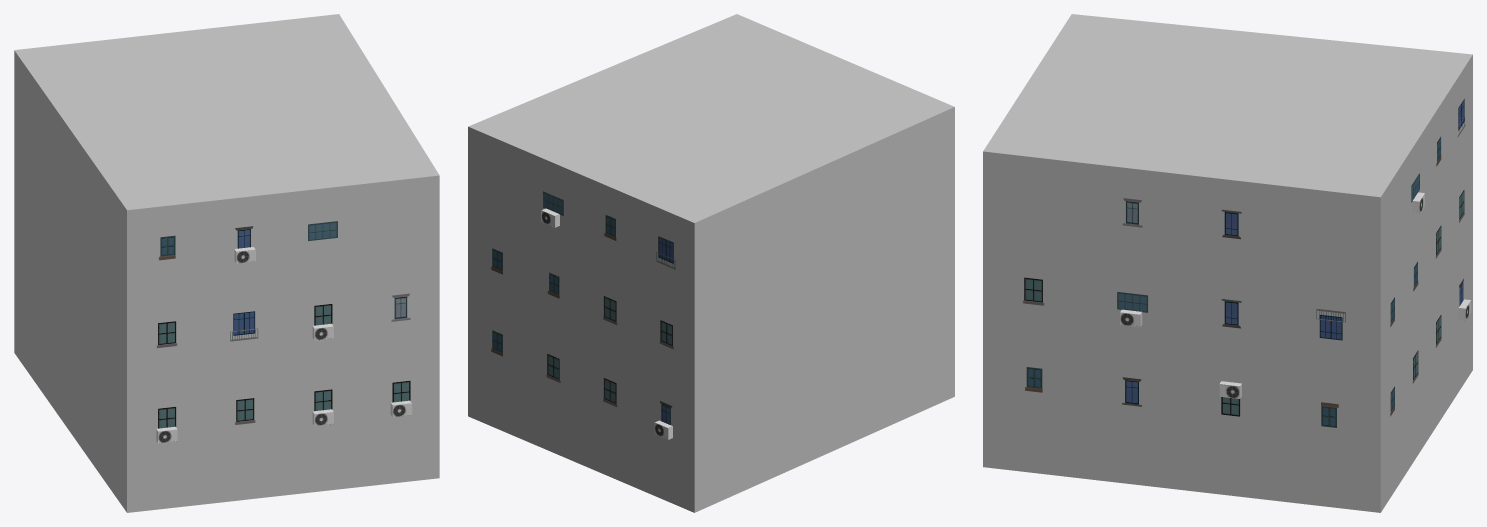
File: 111StationFix11.fbx
3 renders of one model, left to right at view 1: azimuth 30°, elevation 25°; view 2: azimuth 150°, elevation 25°; view 3: azimuth 270°, elevation 25°, orthographic. The views are drawn at different scales.
Visible parts, largest first — view 1: Cube.255; view 2: Cube.255; view 3: Cube.255.
Part boxes in pixels (x1=…): Cube.255: x1=14, y1=14, x2=439, y2=512; Cube.255: x1=468, y1=14, x2=954, y2=512; Cube.255: x1=983, y1=14, x2=1472, y2=512.
Size of the model in its own units: 22.03 by 17.69 by 24.88.
